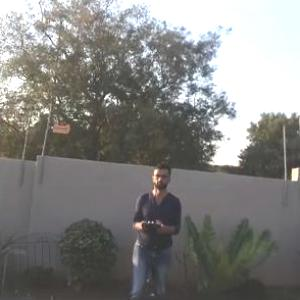follow: (126, 156, 184, 299)
